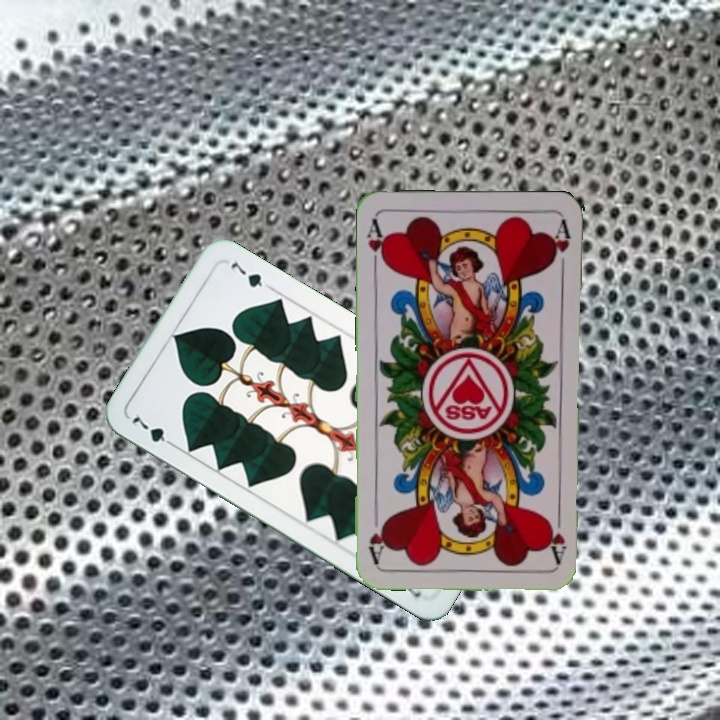G7: (127, 412, 179, 450)
HA: (363, 215, 390, 274), (546, 506, 569, 565)
